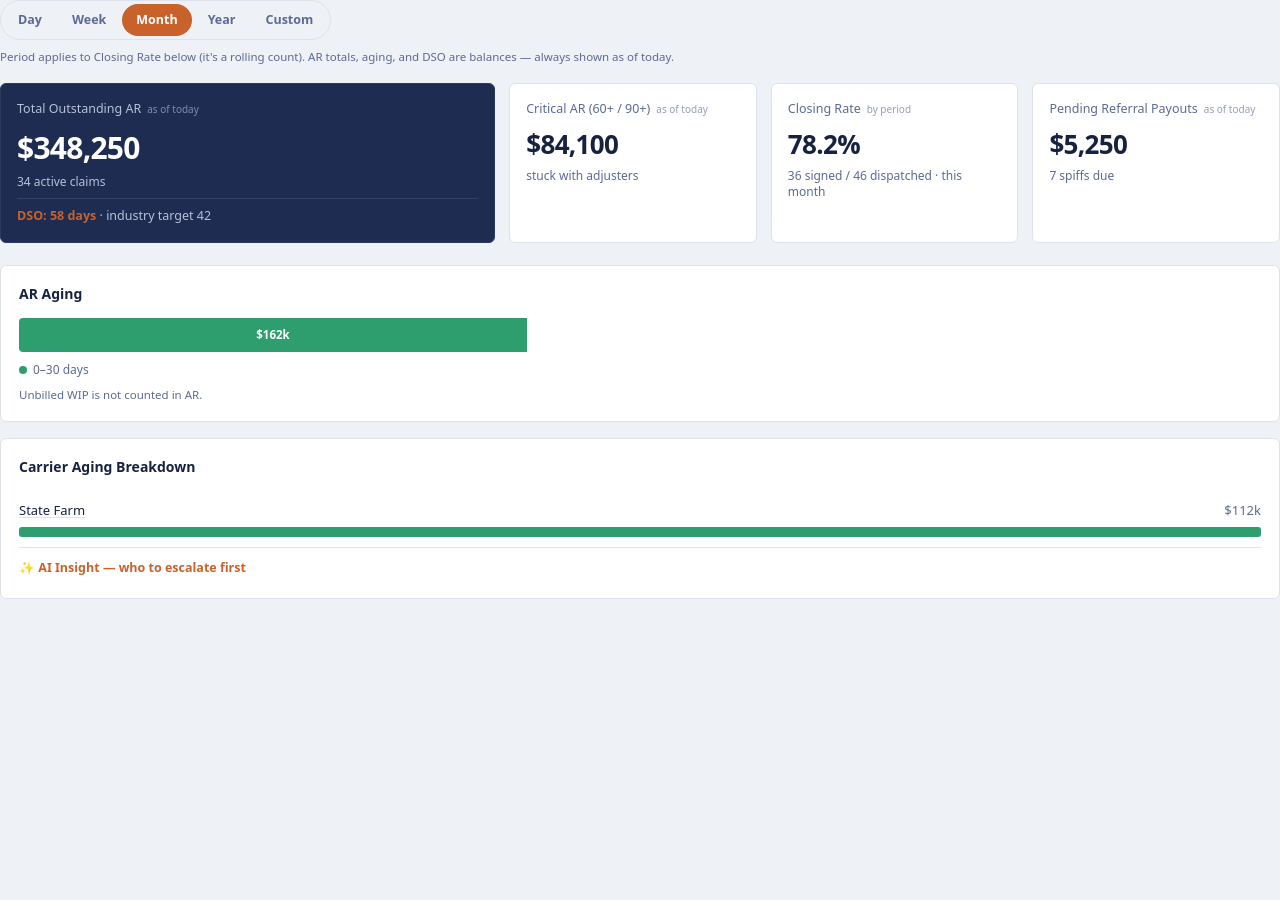
ExecutiveView › opens the carrier detail modal when a carrier name is clicked, and closes it
Click the button "State Farm" at (52,511), box [19,501,85,520]
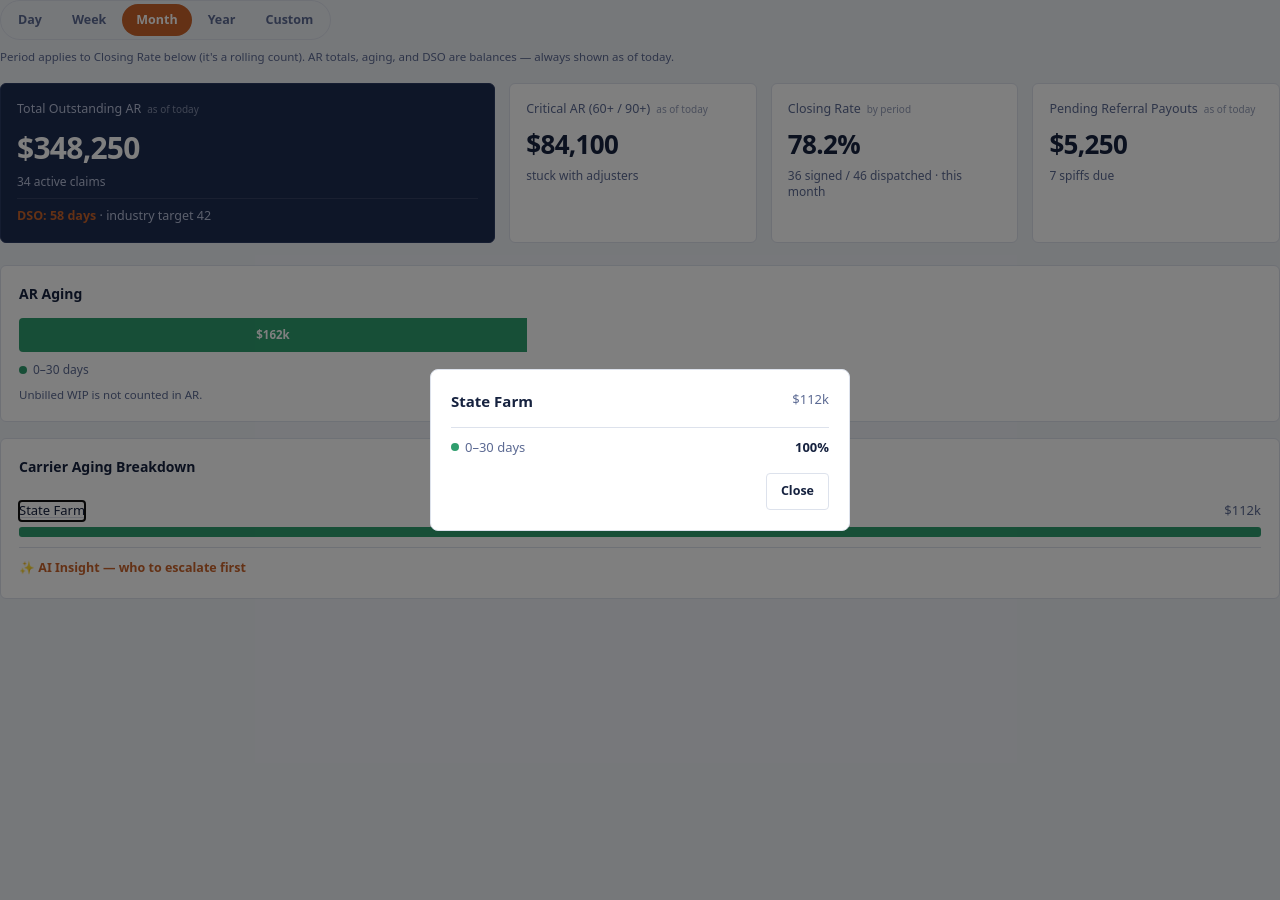
Result: the text "$112k" is shown at [792,390,829,410]
Click the button "Close" at (797,492), box [766,473,829,510]
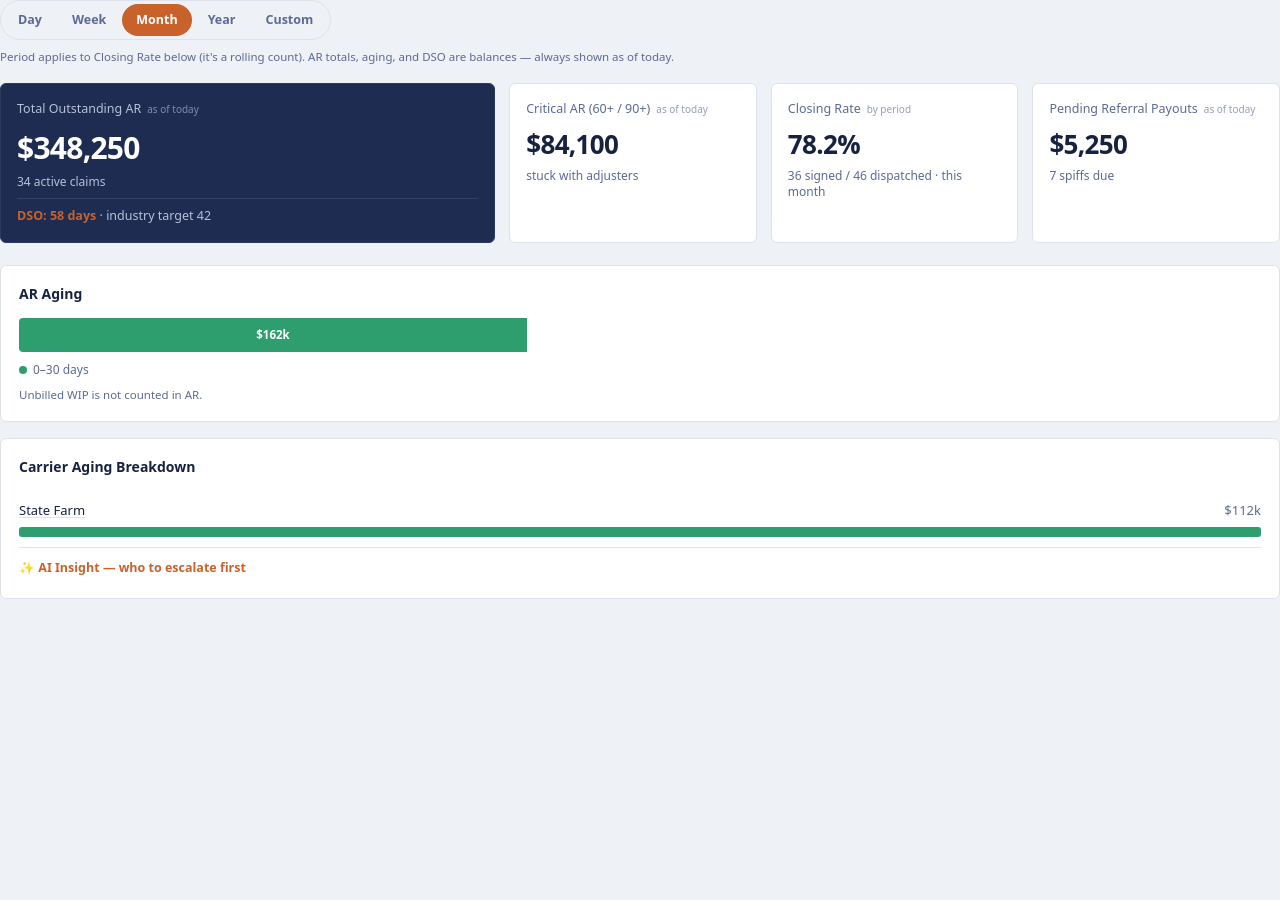
Result: the dialog is gone
